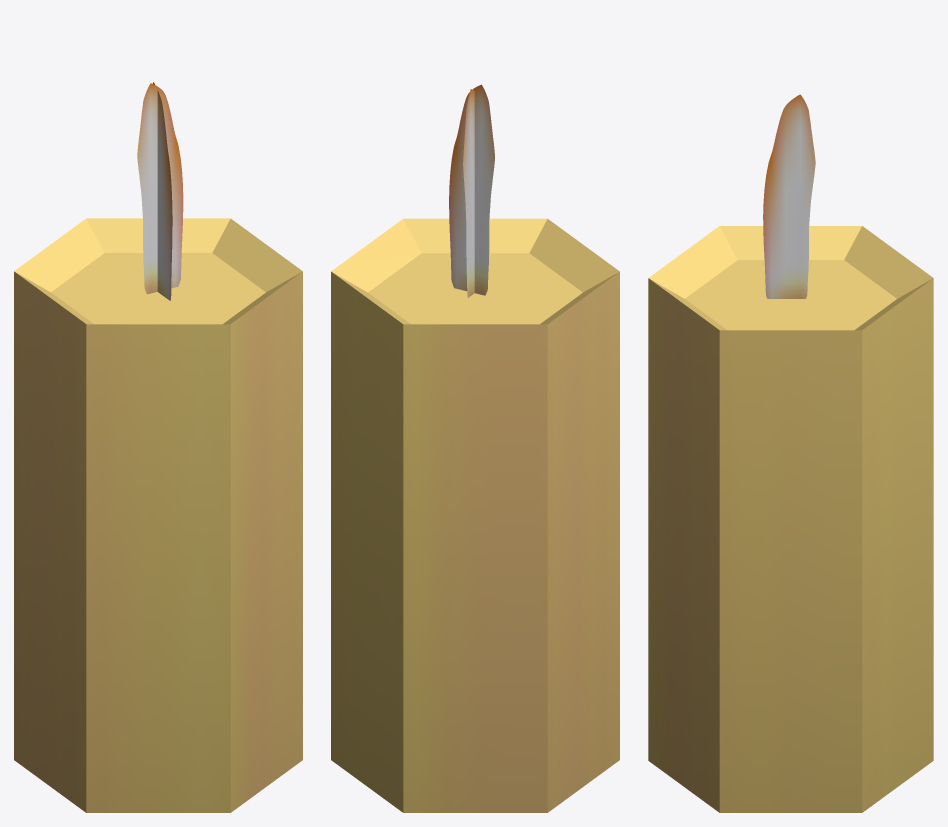
The model's file is Candle1.fbx.
3 views of the same model, side by side, from view 1: azimuth 30°, elevation 25°; view 2: azimuth 150°, elevation 25°; view 3: azimuth 270°, elevation 25° (orthographic).
Parts seen in each view (by area): view 1: Cube.007; view 2: Cube.007; view 3: Cube.007.
Part boxes in pixels (x1,y1,x2,y2): Cube.007: [14, 82, 302, 812]; Cube.007: [331, 84, 619, 812]; Cube.007: [648, 94, 933, 812].
Size of the model in its own units: 10.28 by 30.49 by 11.38.
Materials: 1 (1 with a texture image).
